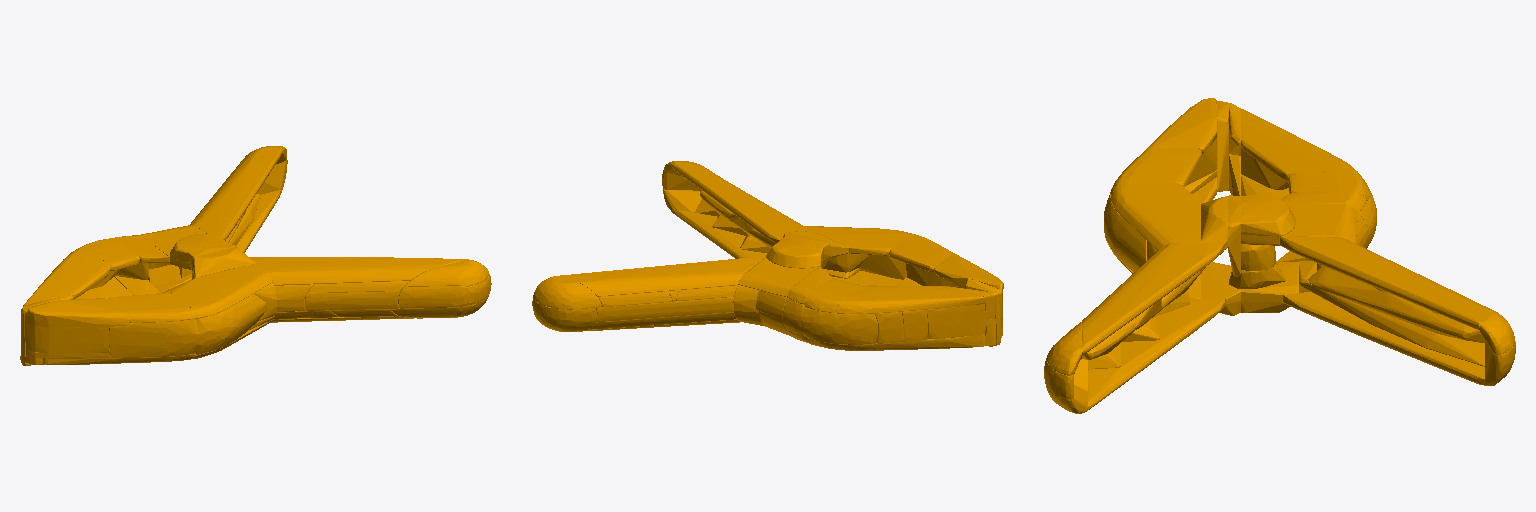
URDF robot description (052_extra_large_clamp):
<?xml version="1.0" encoding="UTF-8"?>
<robot name="052_extra_large_clamp">
	<link name="base">
		<collision>
			<geometry>
				<mesh filename="..\vhacd\052_extra_large_clamp_vhacd.obj" scale="1.0 1.0 1.0"/>
			</geometry>
			<origin xyz="0 0 0"/>
			<contact_coefficients mu="0.24" />
		</collision>
		<visual>
			<geometry>
				<mesh filename="..\vhacd\052_extra_large_clamp_vhacd.obj" scale="1.0 1.0 1.0"/>
			</geometry>
			<origin xyz="0 0 0"/>
		</visual>
		<inertial>
			<mass value="0"/>
			<inertia ixx="0.0" ixy="-0.0" ixz="0.0" iyy="0.0" iyz="-0.0" izz="0.0" />
			<origin xyz="-0.029549933814580258 -0.03660538113682078 0.018078943746795417"/>
		</inertial>
	</link>
</robot>

--- Facts derived from the render (not from the file) ---
Views: 3 orthographic renders of the robot side by side, from view 1: azimuth 30°, elevation 25°; view 2: azimuth 150°, elevation 25°; view 3: azimuth 270°, elevation 25°.
Robot: 052_extra_large_clamp — 1 links, 0 joints (none); root link base; default pose: all joints at 0.
Visible links, largest first — view 1: base; view 2: base; view 3: base.
Boxes of the visible links, <box> form: base: <box>20,146,491,365</box>; base: <box>532,161,1003,350</box>; base: <box>1044,98,1515,413</box>.
Bounding box of the posed robot: 0.2102 × 0.1646 × 0.0366 m (x, y, z).
Meshes: 1 distinct files referenced, 1 mesh visuals loaded (1 OBJ).